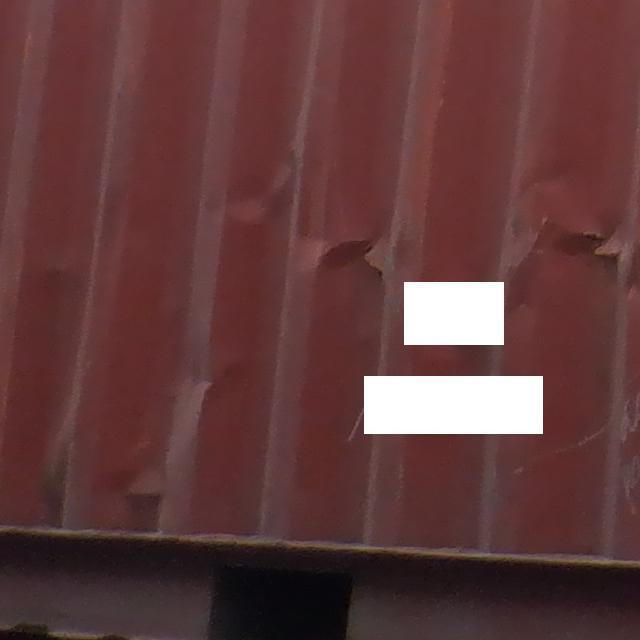dent: (3, 400, 186, 524), (280, 228, 397, 300)
